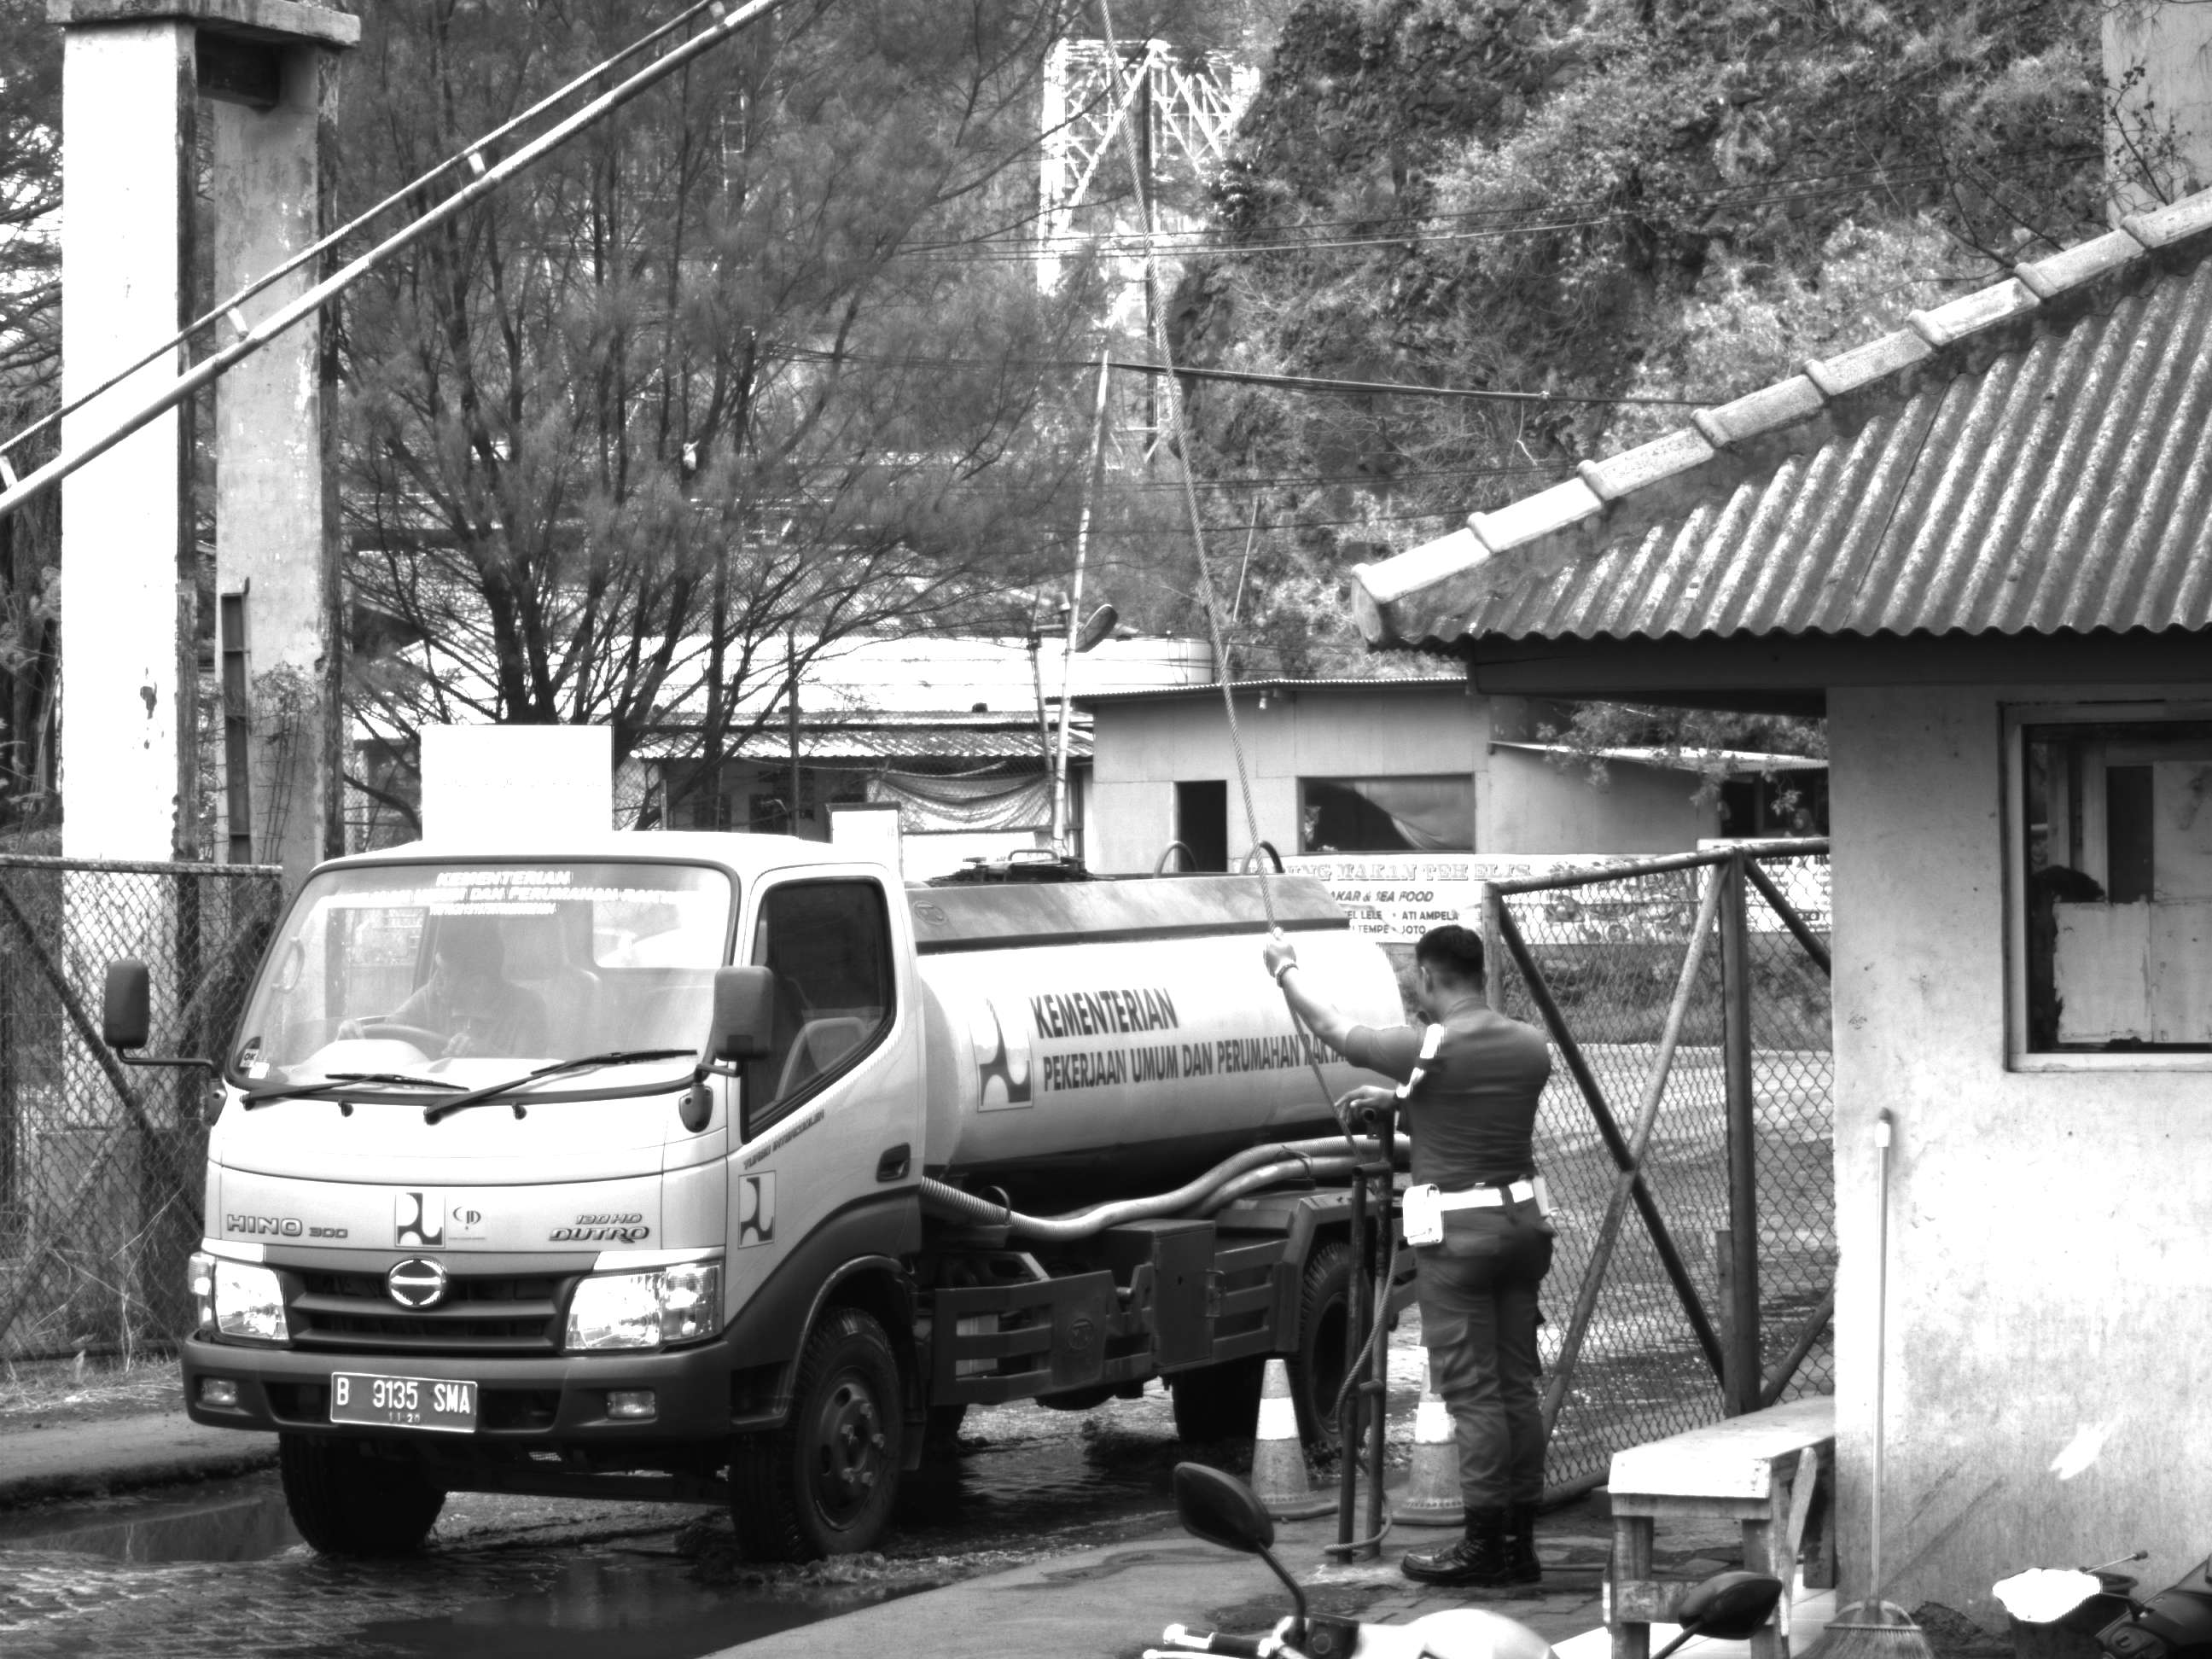day_truck_front: (164, 834, 932, 1569)
plate: (324, 1369, 487, 1438)
